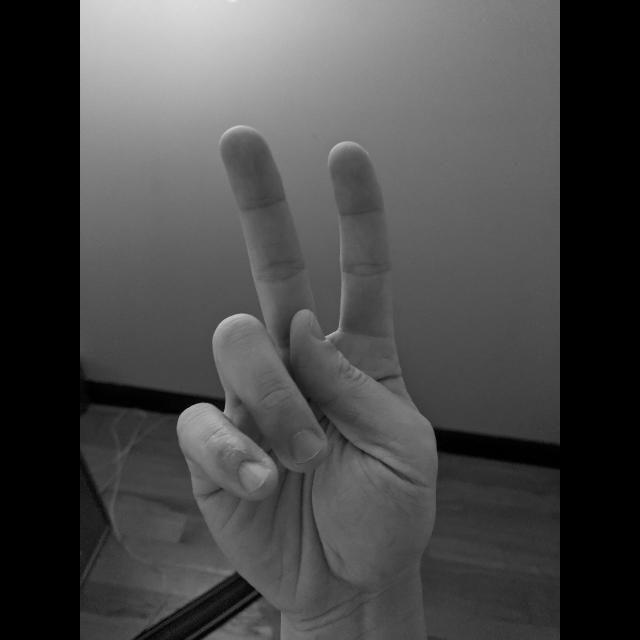K: (168, 118, 444, 616)
